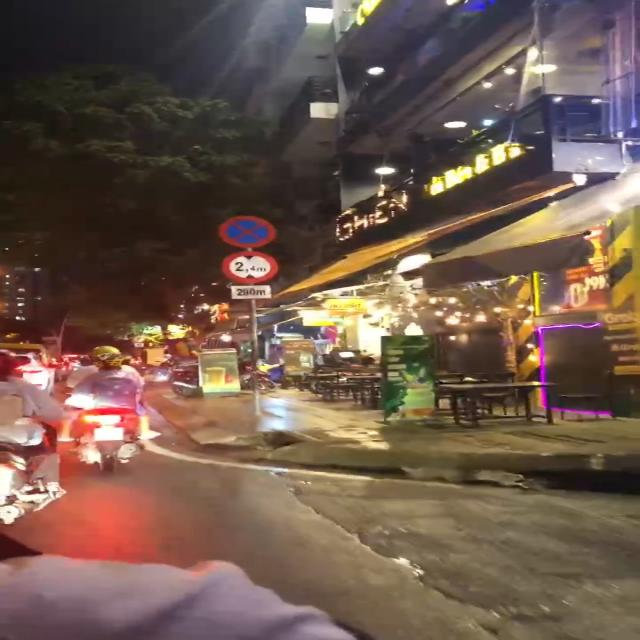Bien bao cam dung xe va do xe: (216, 214, 284, 246)
Bien bao han che chieu cao: (218, 250, 285, 286)
